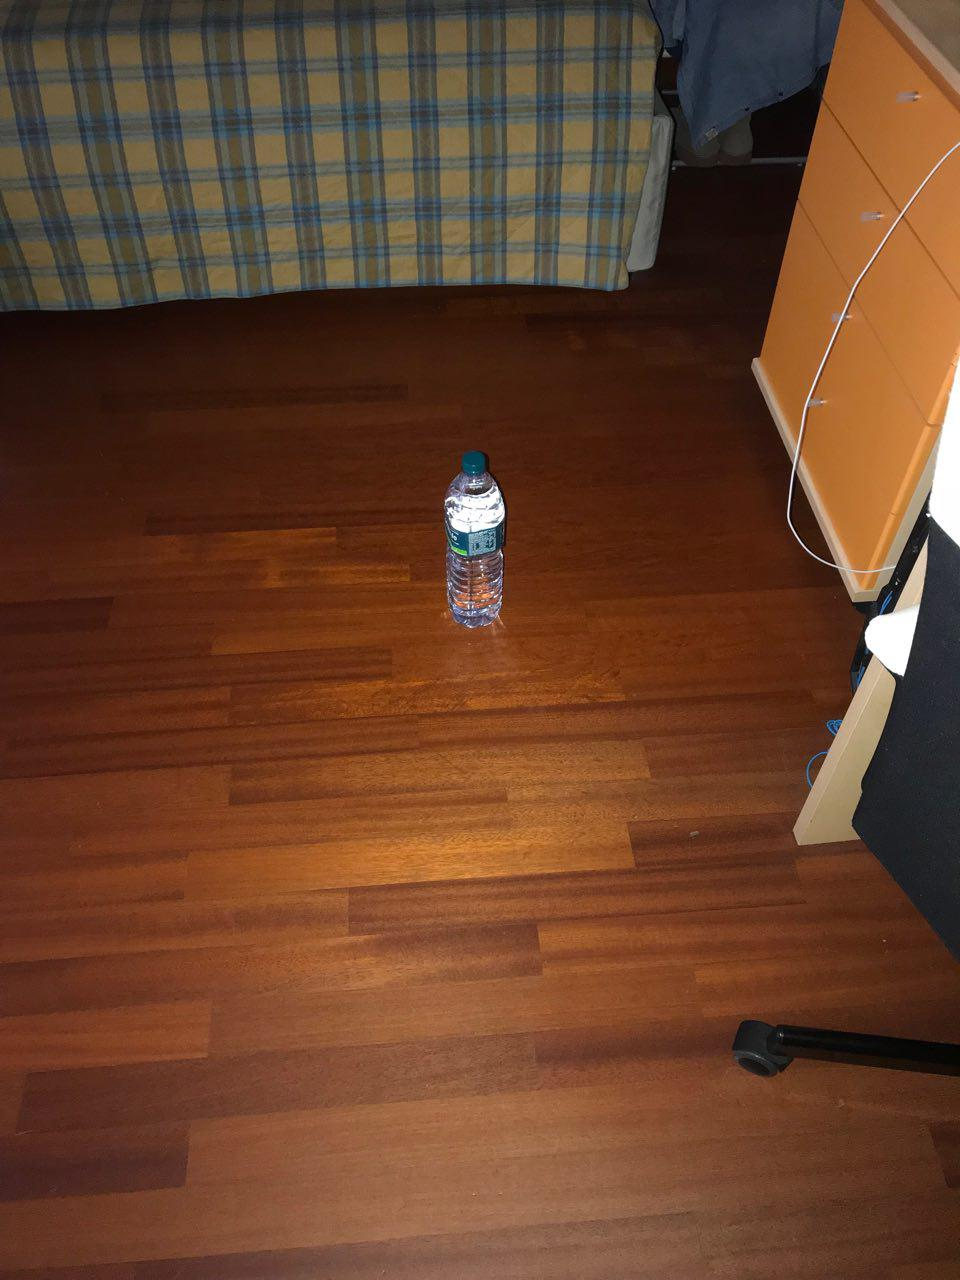san_bernardo: (442, 450, 507, 630)
